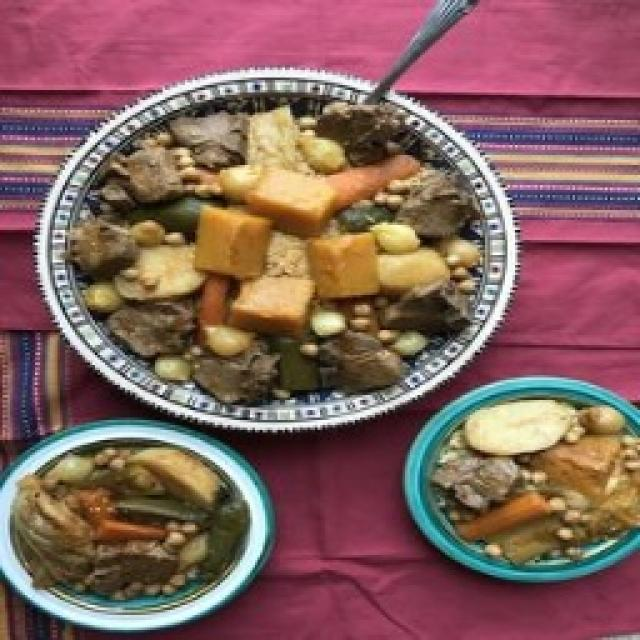Couscous: (38, 70, 518, 431), (12, 441, 249, 599), (431, 400, 640, 571)
